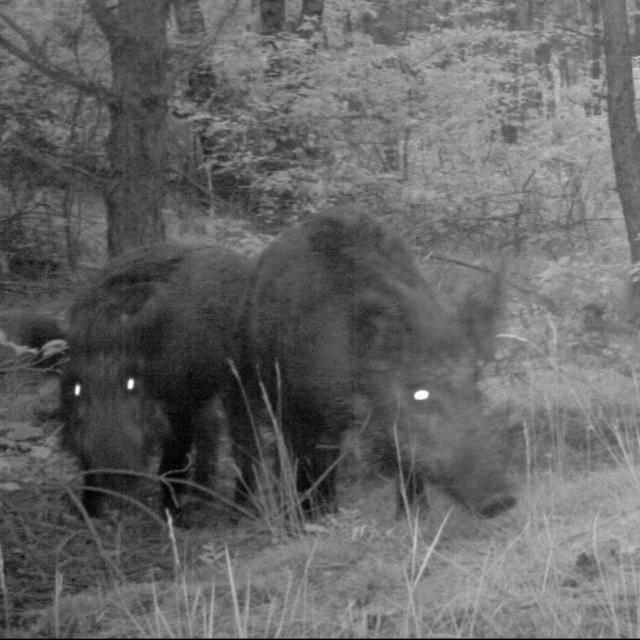pig: (214, 199, 544, 539)
